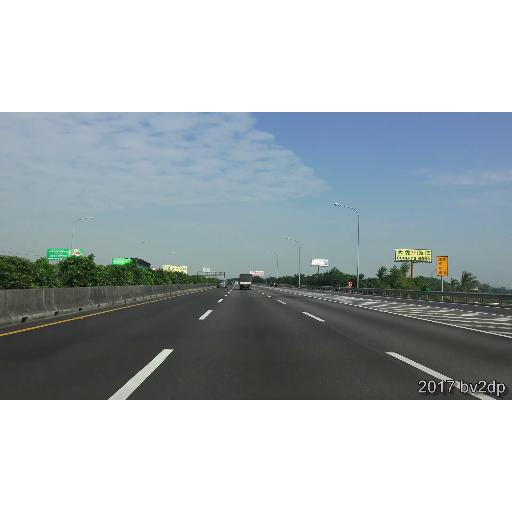Car: (240, 274, 253, 290), (217, 280, 227, 288), (270, 281, 279, 287)
